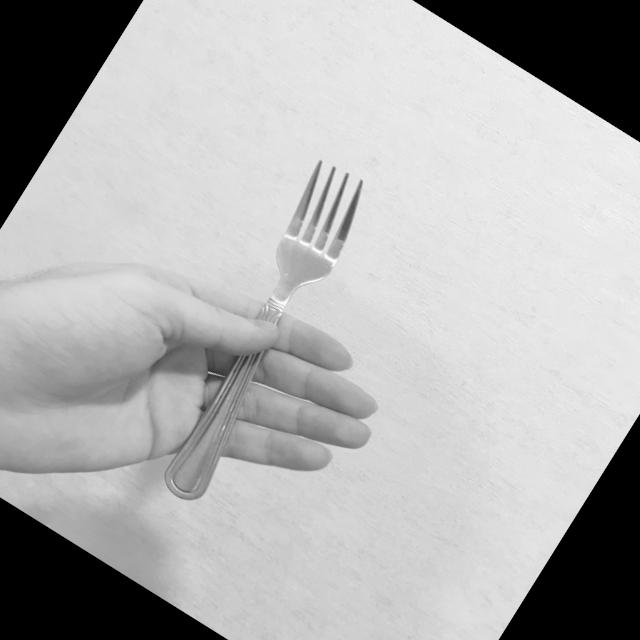fork: (120, 149, 392, 509)
